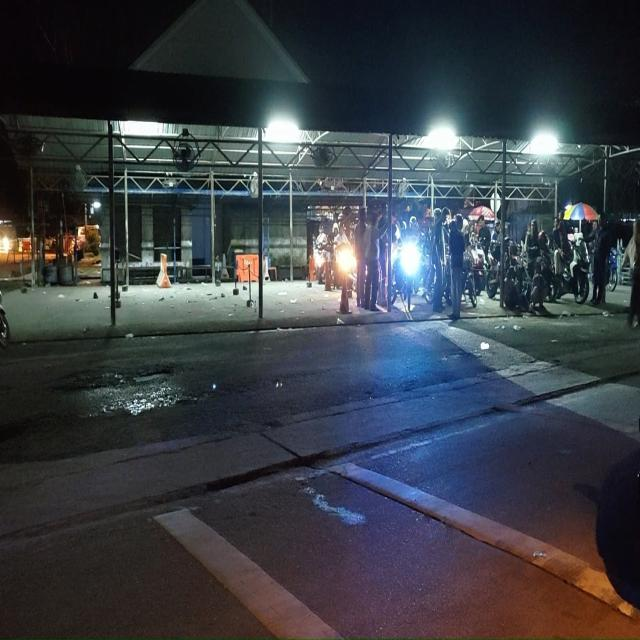Golongan II: (549, 234, 590, 305), (391, 242, 422, 310), (462, 249, 477, 308), (486, 240, 500, 299), (470, 242, 486, 293), (605, 248, 618, 292)
